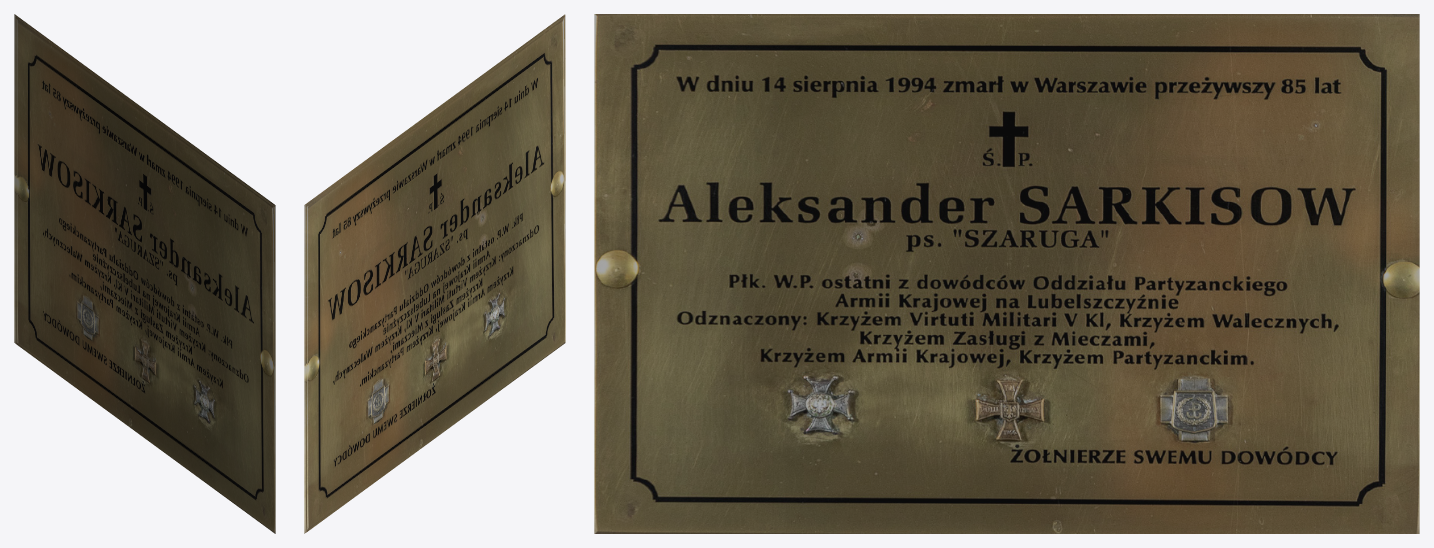
The model's file is 41. ALEKSANDER SARKISOW.glb.
The picture shows the model from 3 angles, left to right: view 1: azimuth 30°, elevation 25°; view 2: azimuth 150°, elevation 25°; view 3: azimuth 270°, elevation 25°; orthographic projection. The views are drawn at different scales.
Visible parts, largest first — view 1: Plane; view 2: Plane; view 3: Plane.
Part boxes in pixels (box(x1,y1,x2,y2)): Plane: box(14, 14, 275, 533); Plane: box(304, 14, 565, 533); Plane: box(594, 14, 1419, 533).
Size of the model in its own units: 0.0102 by 13.9 by 20.
1 material, 1 textured.
